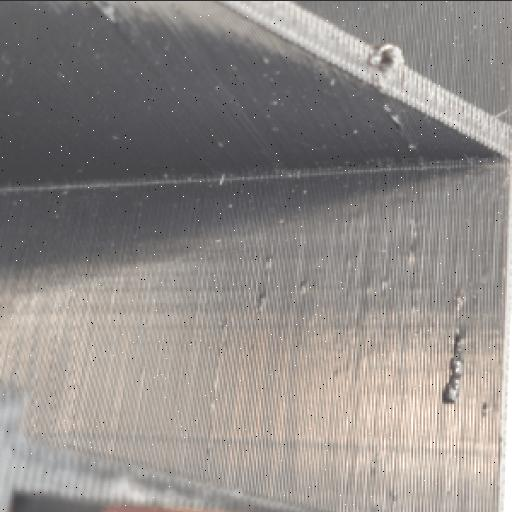blobs: (429, 317, 493, 419), (237, 238, 311, 314), (353, 32, 409, 90)
